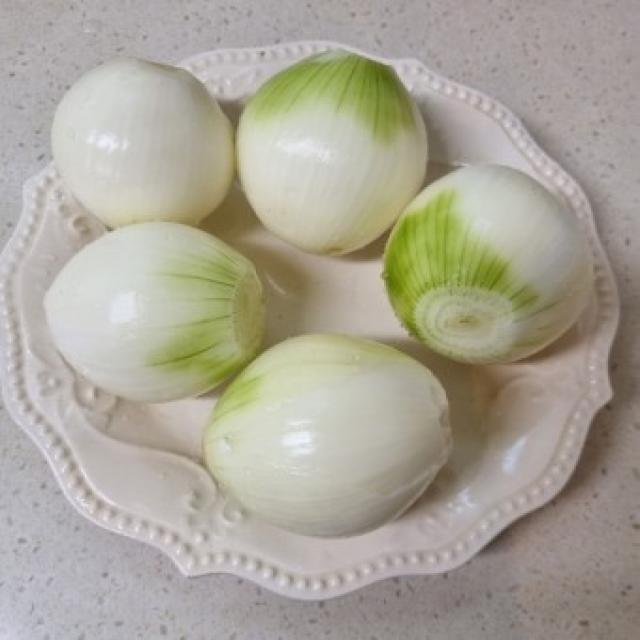onion: (394, 157, 602, 386), (232, 29, 429, 258), (215, 344, 474, 516), (35, 219, 256, 405), (40, 41, 228, 230)
